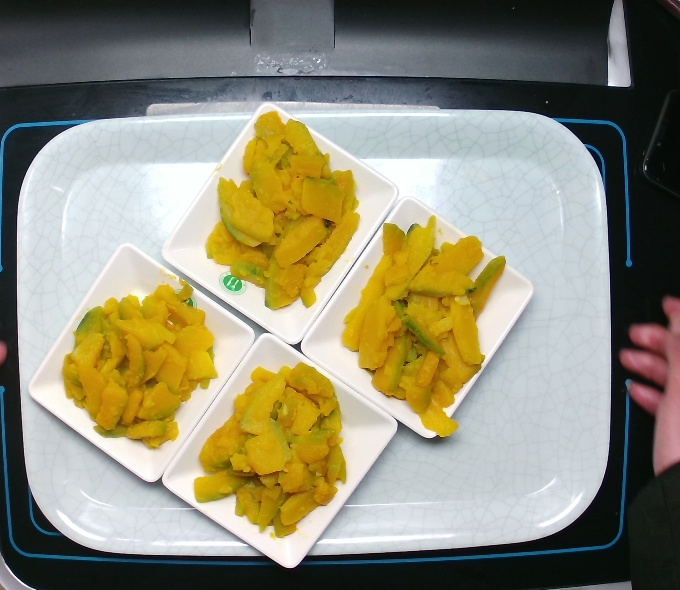wcq-NanGuaPian: (336, 201, 519, 447), (186, 114, 367, 315), (187, 352, 360, 543), (62, 286, 225, 460)
